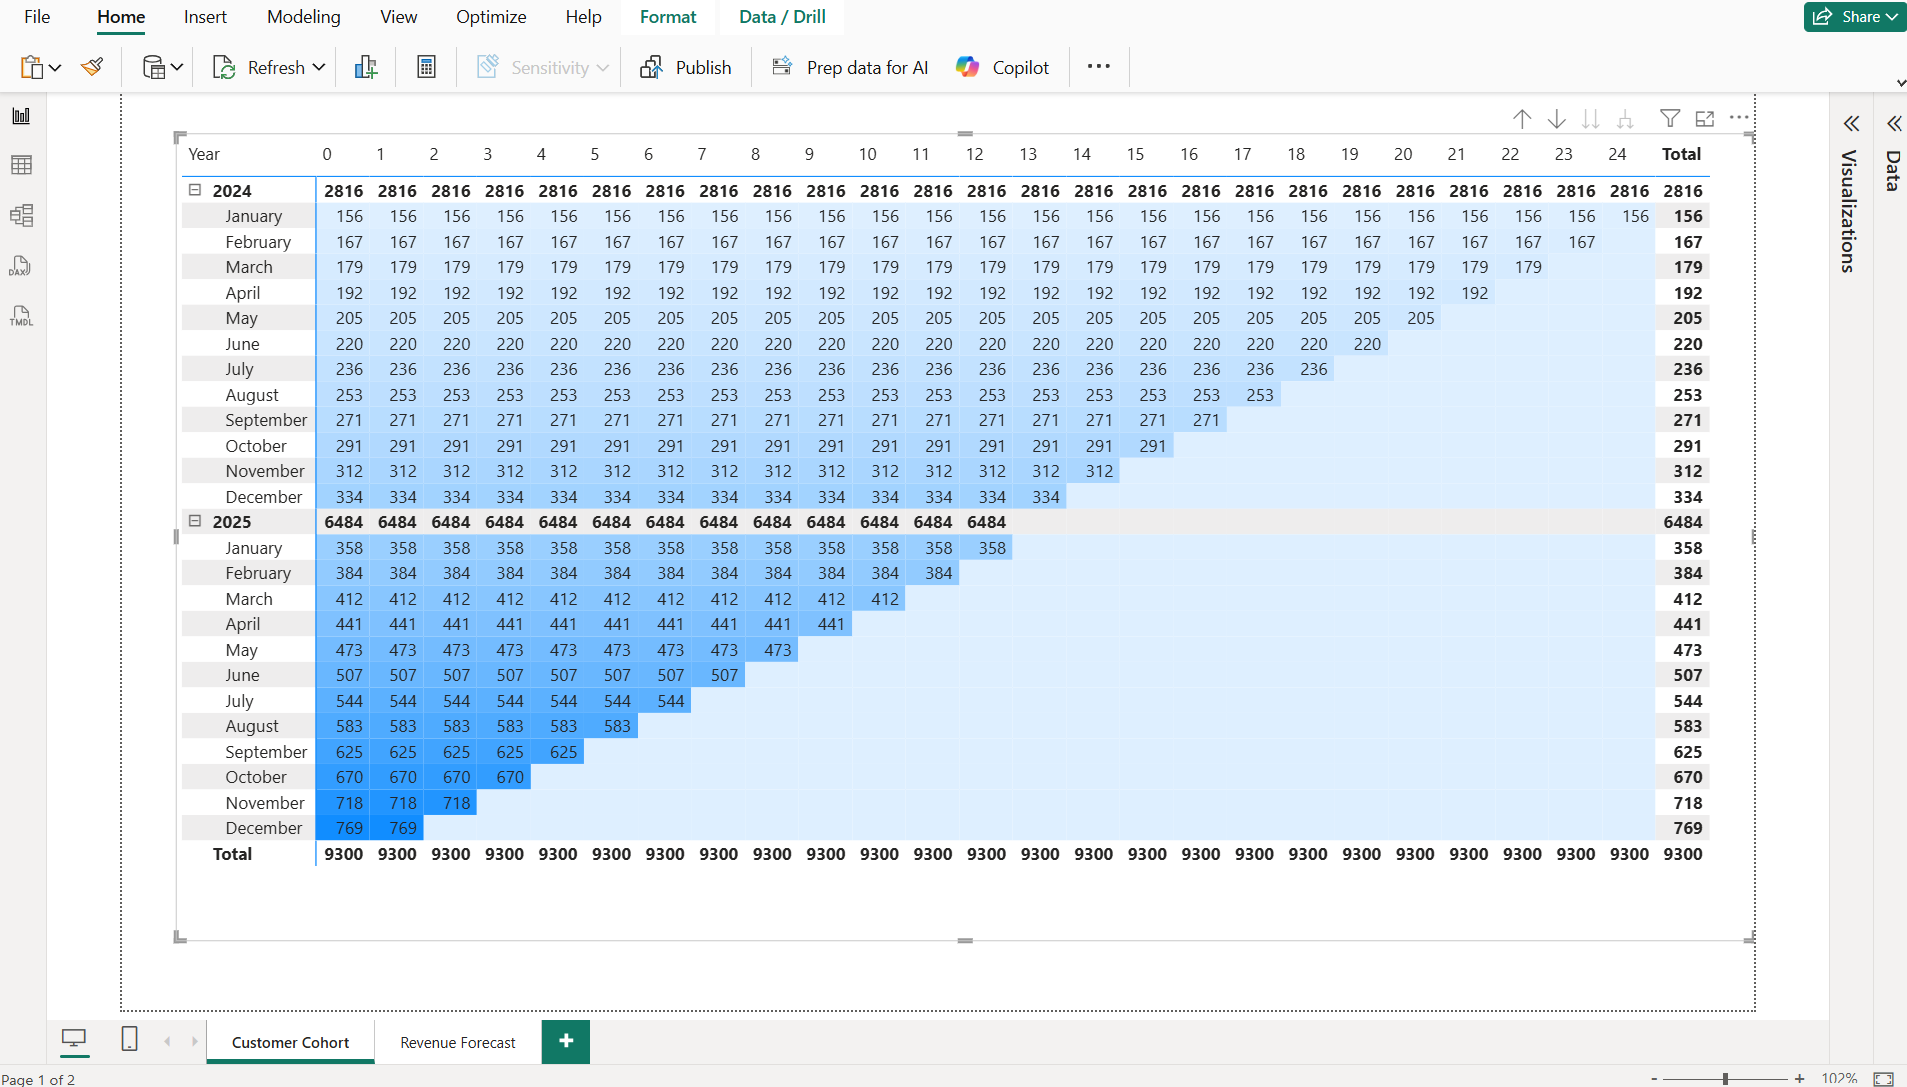

This screenshot's page, from the dashboard's own definition file:
{"tool":"powerbi","page":{"name":"Customer Cohort","canvas":[1280,720],"ordinal":0},"visuals":[{"type":"pivotTable","fields":{"Rows":["customers.Cohort Month.Variation.Date Hierarchy.Year","customers.Cohort Month.Variation.Date Hierarchy.Month"],"Columns":["transactions.Months Since Signup"],"Values":["Count(customers.Customer_ID)"]},"box":[42.1,32.1,1238.3,634.2],"z":0}]}

Visuals, with their boxes on the page's 1280x720 design canvas (x1, y1, x2, y2). These are canvas units, not pixel positions in the 1907x1087 screenshot, which may show the page scaled, cropped or inside an application window:
pivotTable - customers.Cohort Month.Variation.Date Hierarchy.Year x customers.Cohort Month.Variation.Date Hierarchy.Month: box=[42, 32, 1280, 666]
